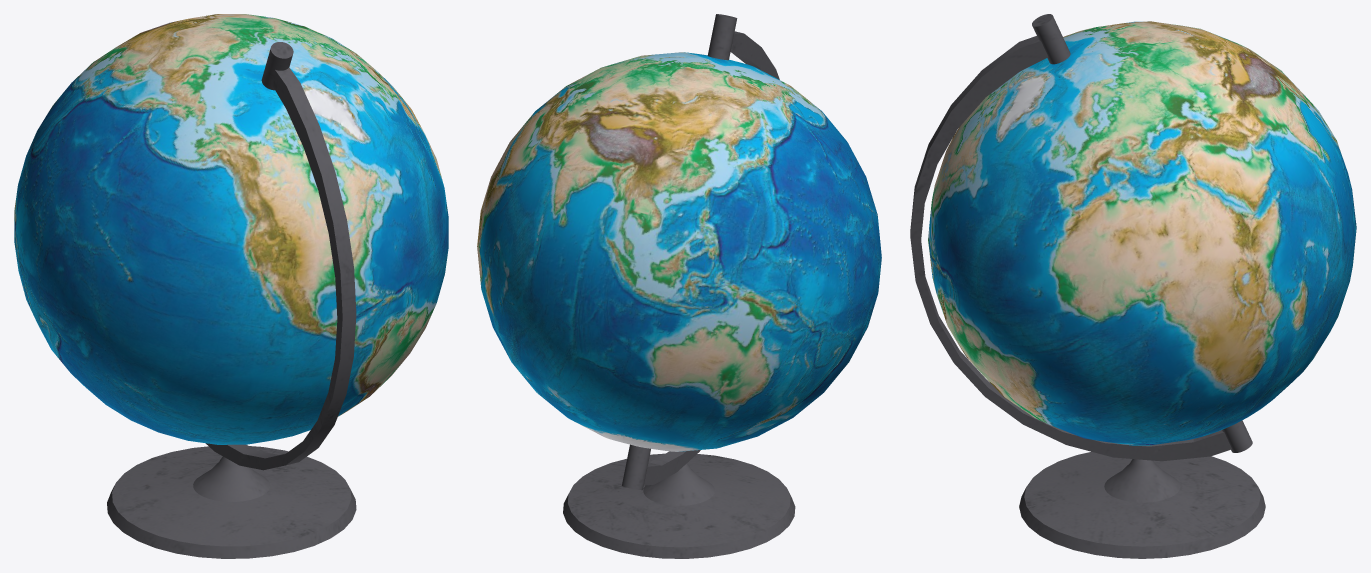
File: globus.fbx
3 renders of one model, left to right at view 1: azimuth 30°, elevation 25°; view 2: azimuth 150°, elevation 25°; view 3: azimuth 270°, elevation 25°, orthographic. The views are drawn at different scales.
Visible parts, largest first — view 1: Sphere.001, Sphere; view 2: Sphere.001, Sphere; view 3: Sphere.001, Sphere.
Part boxes in pixels (x1,y1,x2,y2): Sphere.001: (14, 14, 448, 444); Sphere: (107, 42, 356, 558); Sphere.001: (477, 52, 881, 451); Sphere: (563, 14, 795, 558); Sphere.001: (928, 21, 1356, 445); Sphere: (910, 14, 1265, 558).
Size of the model in its own units: 0.5791 by 0.7265 by 0.5992.
